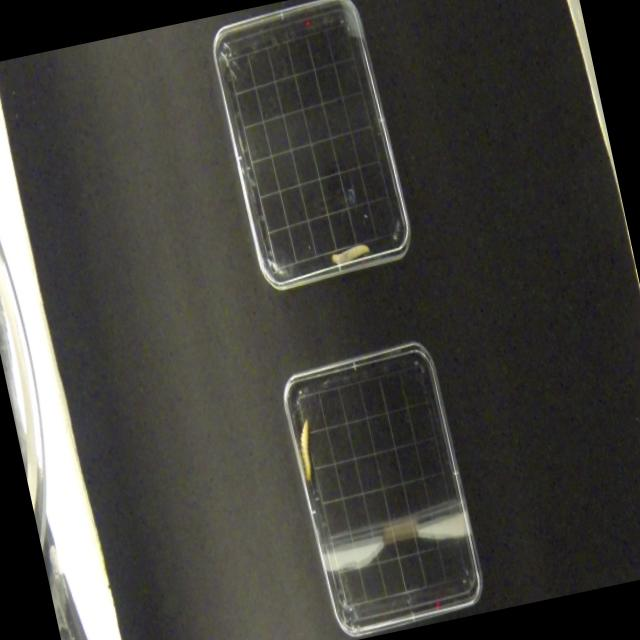larva: (294, 418, 322, 484), (328, 242, 372, 264)
